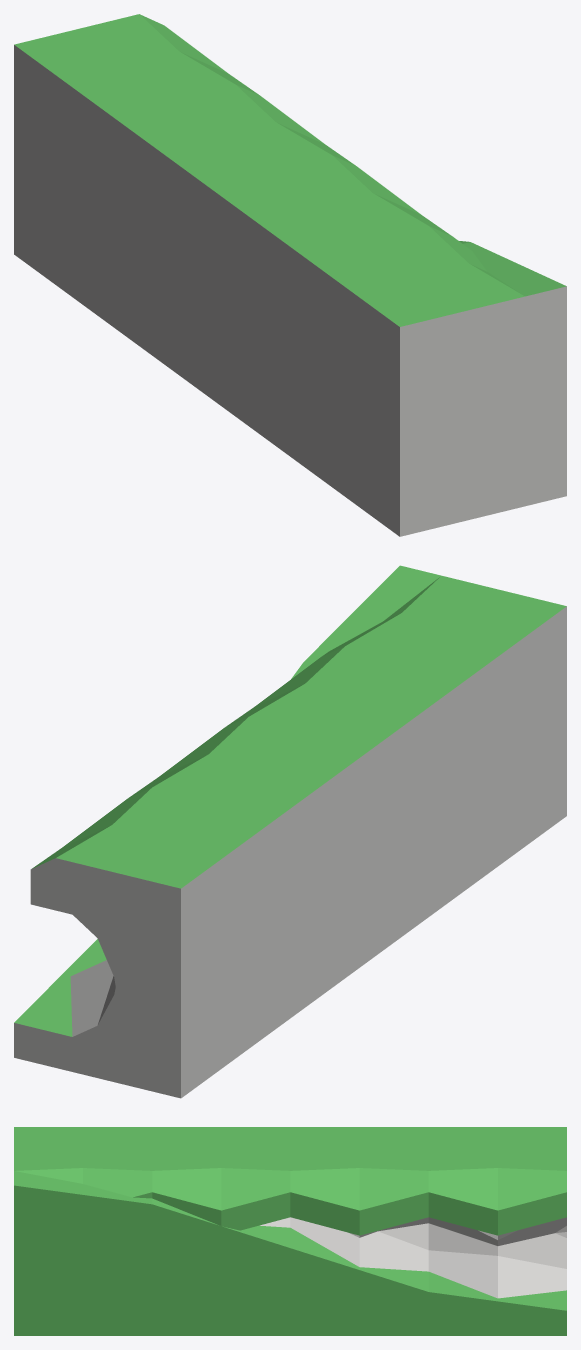
The model's file is Cliff_Base_Top_Joined_Hill_Gentle.glb.
3 views of the same model, one above another, from view 1: azimuth 30°, elevation 25°; view 2: azimuth 150°, elevation 25°; view 3: azimuth 270°, elevation 25° (orthographic). The views are drawn at different scales.
Parts seen in each view (by area): view 1: object1; view 2: object1; view 3: object1.
Part boxes in pixels (x1=…): object1: x1=14, y1=14, x2=566, y2=536; object1: x1=14, y1=565, x2=566, y2=1098; object1: x1=14, y1=1127, x2=566, y2=1335.
Bounding box in the file's own units: 1 × 1.2 × 4.
